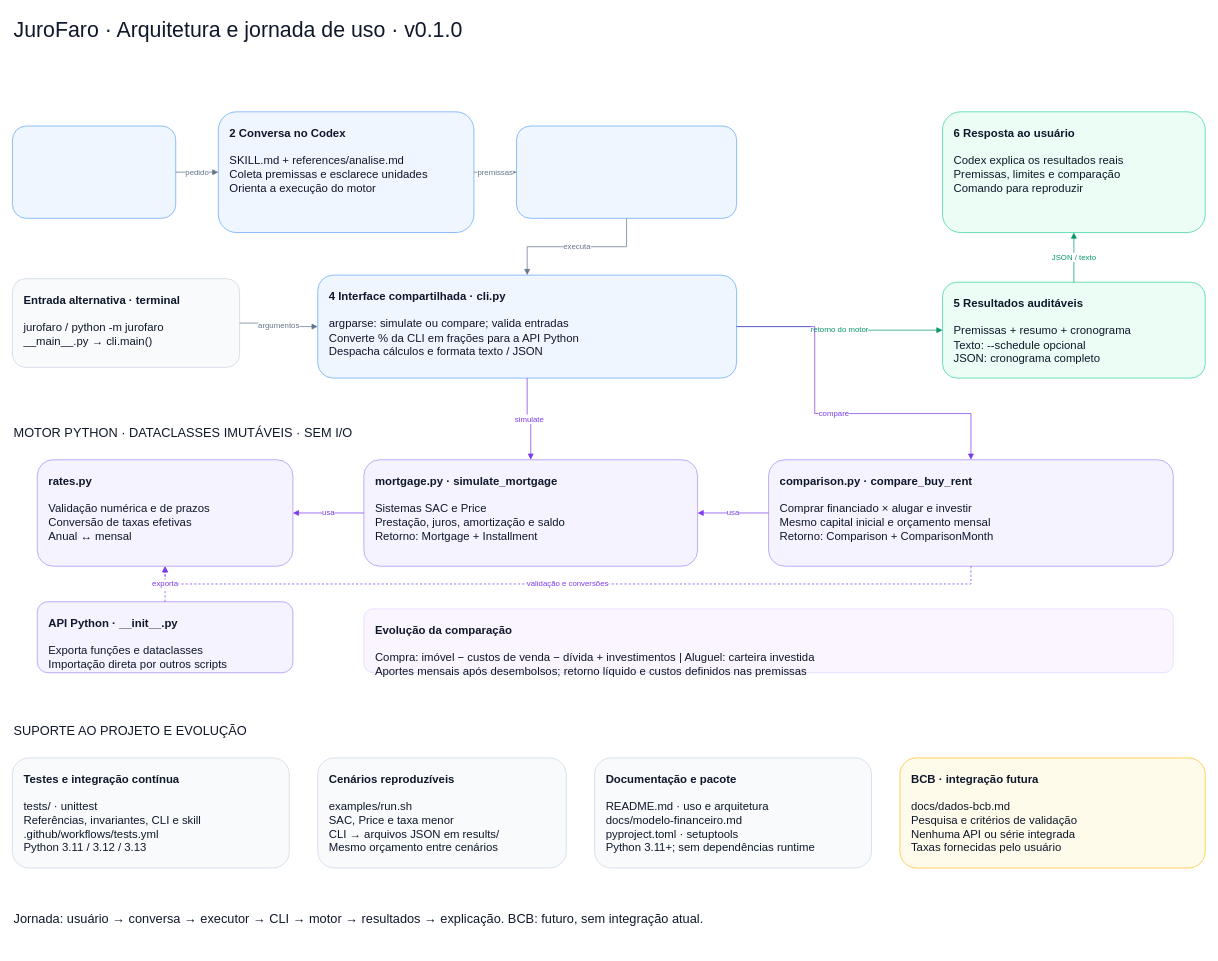
Image size: 1218x961. Some labels were removed from this diagram. The shapes that lost their labels are listed below. From the top down, each one's box as (x1, y1, x2, y2) in pixels, then its label:
(12, 125, 176, 218): 1 Usuário Simular financiamento ou comprar × alugar
(516, 125, 737, 218): 3 Executor da skill scripts/run.py Localiza src/ e chama cli.main()
